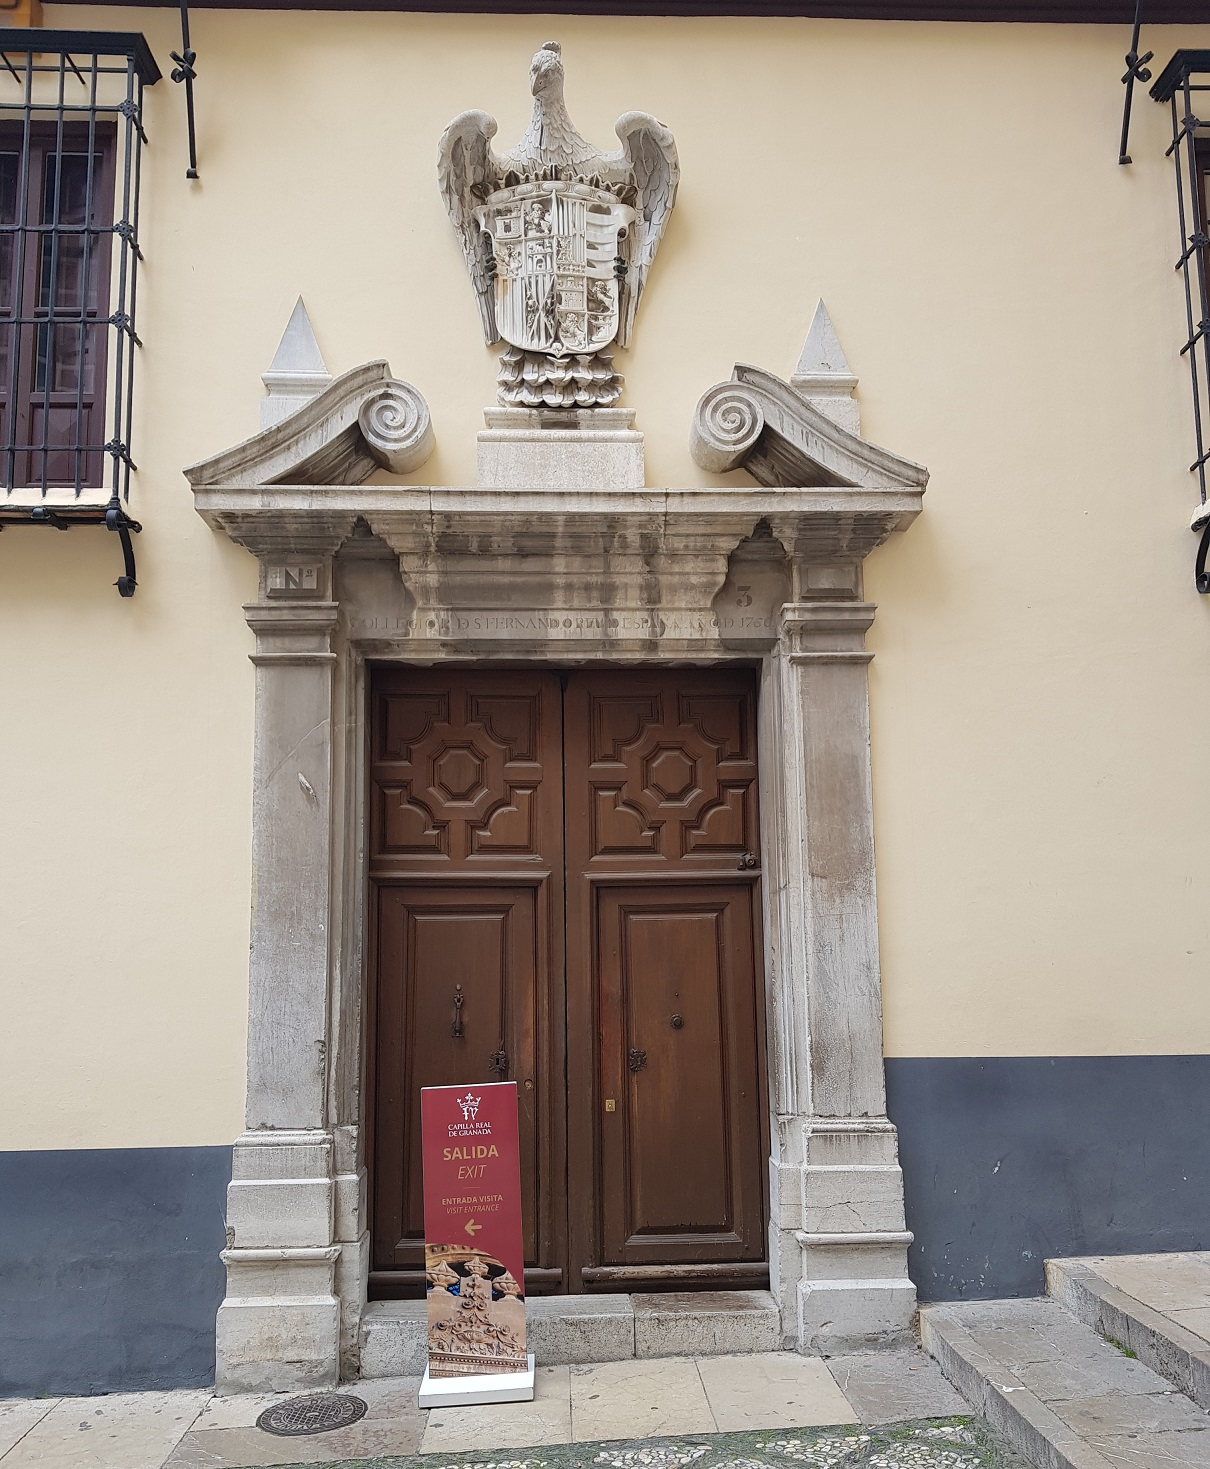fronton-partido: (174, 353, 942, 533)
vano-adintelado: (324, 619, 786, 1298)
